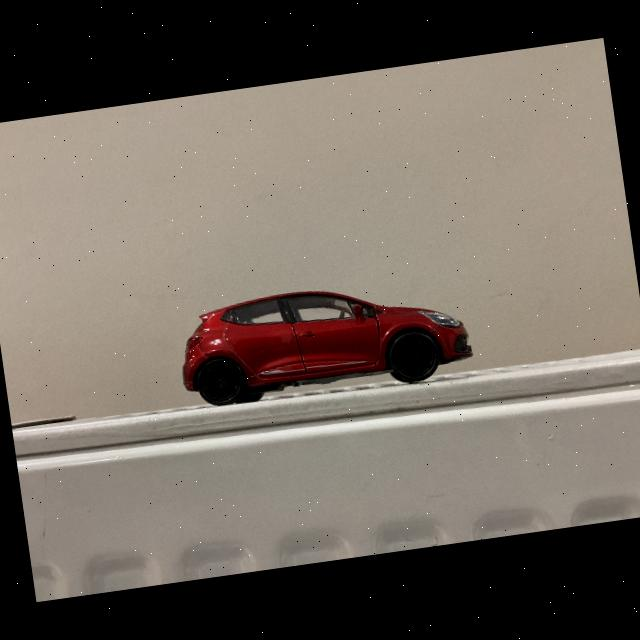Dogru_Jant: (392, 334, 436, 379), (198, 360, 240, 403)
